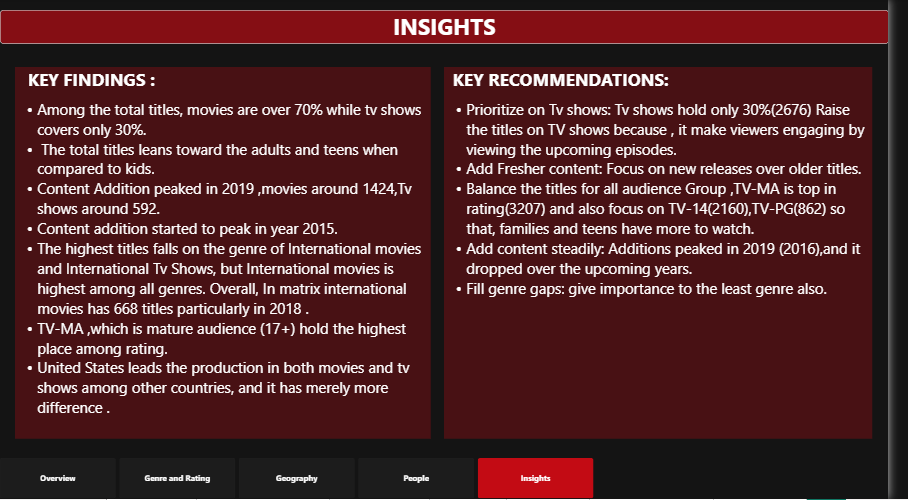

The page's visual inventory and layout, read from the dashboard file:
{"tool":"powerbi","page":{"name":"Insights","canvas":[1920,1080],"ordinal":4},"visuals":[{"type":"textbox","box":[0,23.8,1920.2,73.4],"z":0},{"type":"textbox","box":[32.5,147.5,897.5,802.5],"z":1000},{"type":"textbox","box":[960,147.5,925,802.5],"z":2000},{"type":"pageNavigator","box":[0,992.5,1282.5,87.5],"z":2001}]}

Visuals, with their boxes on the page's 1920x1080 design canvas (x1, y1, x2, y2). These are canvas units, not pixel positions in the 908x500 screenshot, which may show the page scaled, cropped or inside an application window:
textbox: Rect(0, 24, 1920, 97)
textbox: Rect(32, 148, 930, 950)
textbox: Rect(960, 148, 1885, 950)
pageNavigator: Rect(0, 992, 1282, 1080)
